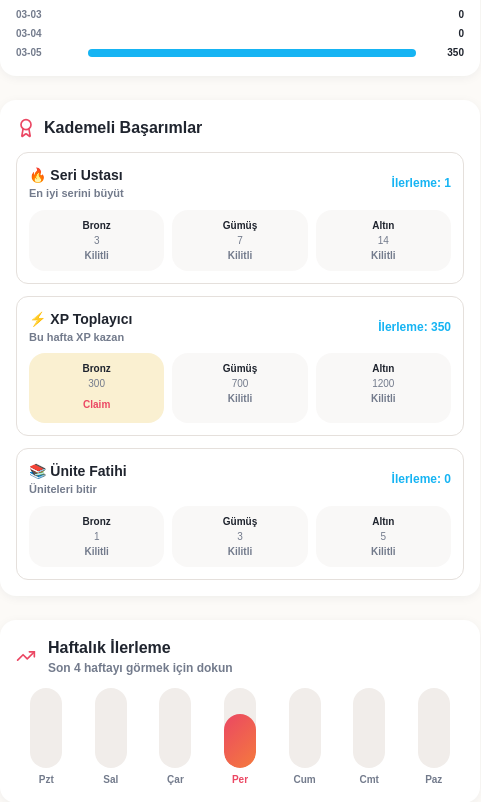
Scenario: ProfilePage › shows tiered achievements and allows claim flow
The width and height of the screenshot is (481, 802).
(page scrolled)
Expected: the heading "Kademeli Başarımlar" is shown, [16, 118, 202, 138]
Click the button "Claim" at (97, 404), box [83, 397, 110, 412]
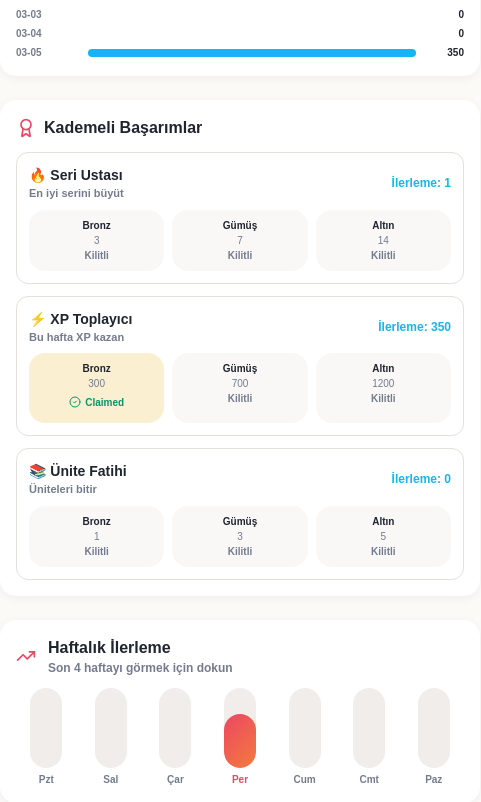
Result: the text "Claimed" is shown at [69, 394, 124, 410]
